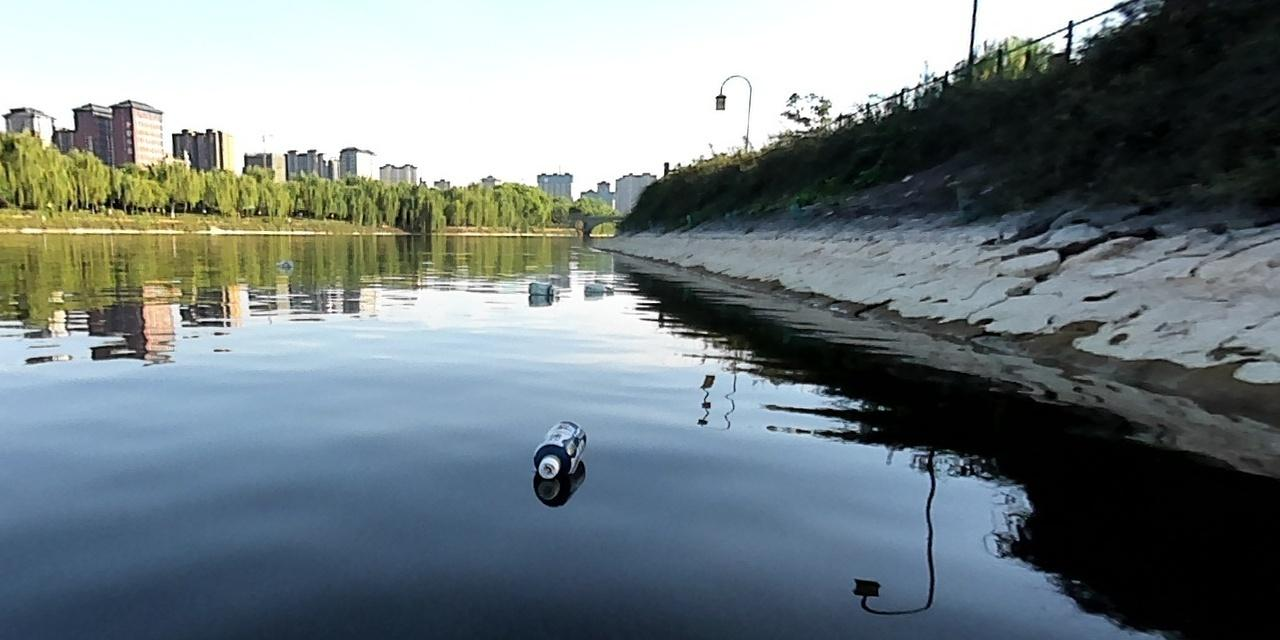bottle: (530, 413, 590, 482), (525, 278, 563, 298), (581, 277, 615, 294), (272, 256, 293, 267)
